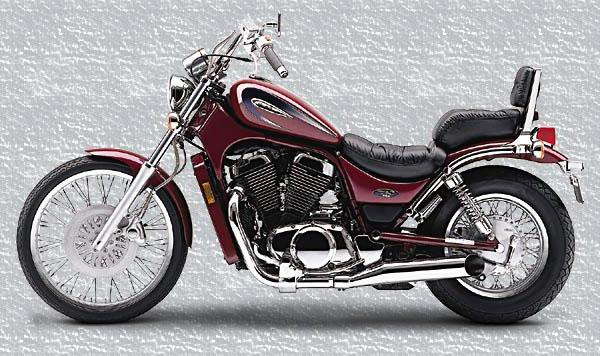motorcycle: (2, 12, 595, 337)
